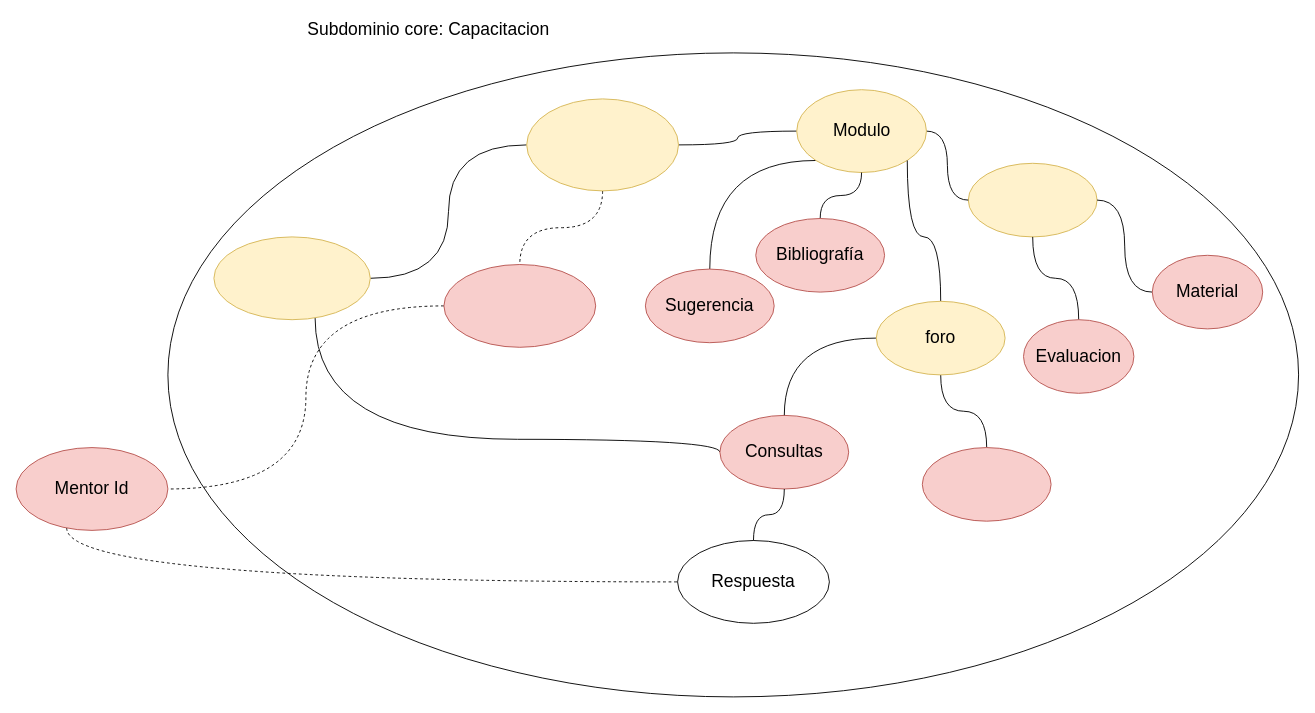
Image size: 1315x713. Some labels were removed from this diagram. The centre of each missing label's shape, as x and y in pixels:
Contenido: the point at 1032,199
Curso: the point at 602,144
Empleado: the point at 291,278
Mentor: the point at 519,305
Politicas: the point at 986,484
